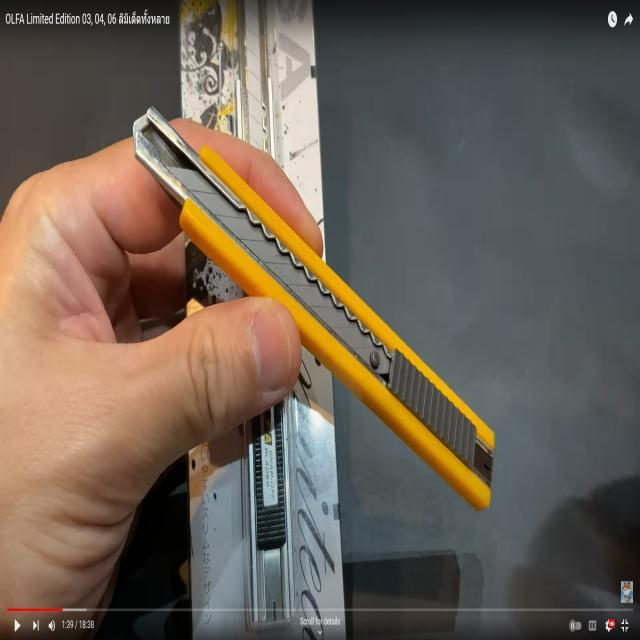cutter: (130, 102, 498, 520)
